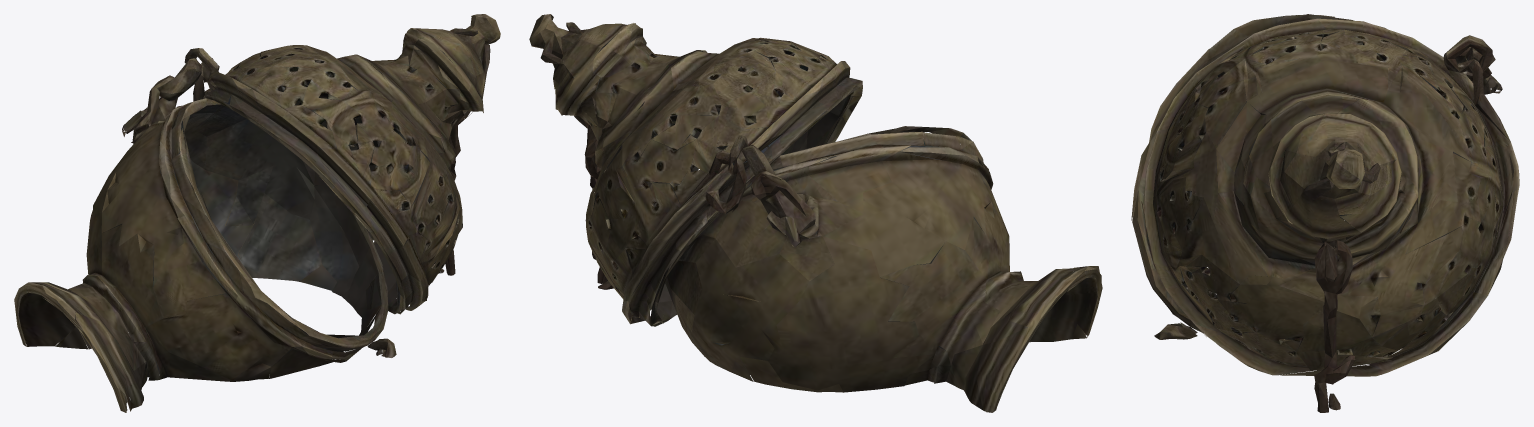
Rendered from censer.glb.
The picture shows the model from 3 angles, left to right: view 1: azimuth 30°, elevation 25°; view 2: azimuth 150°, elevation 25°; view 3: azimuth 270°, elevation 25°; orthographic projection. The views are drawn at different scales.
Parts seen in each view (by area): view 1: Mesh_0; view 2: Mesh_0; view 3: Mesh_0.
Boxes of the visible parts, x1,y1,x2,y2 form: Mesh_0: (14,14,500,412); Mesh_0: (529,14,1102,412); Mesh_0: (1131,14,1519,412).
Size of the model in its own units: 0.45 by 0.2215 by 0.2698.
Materials: 1 (1 with a texture image).
